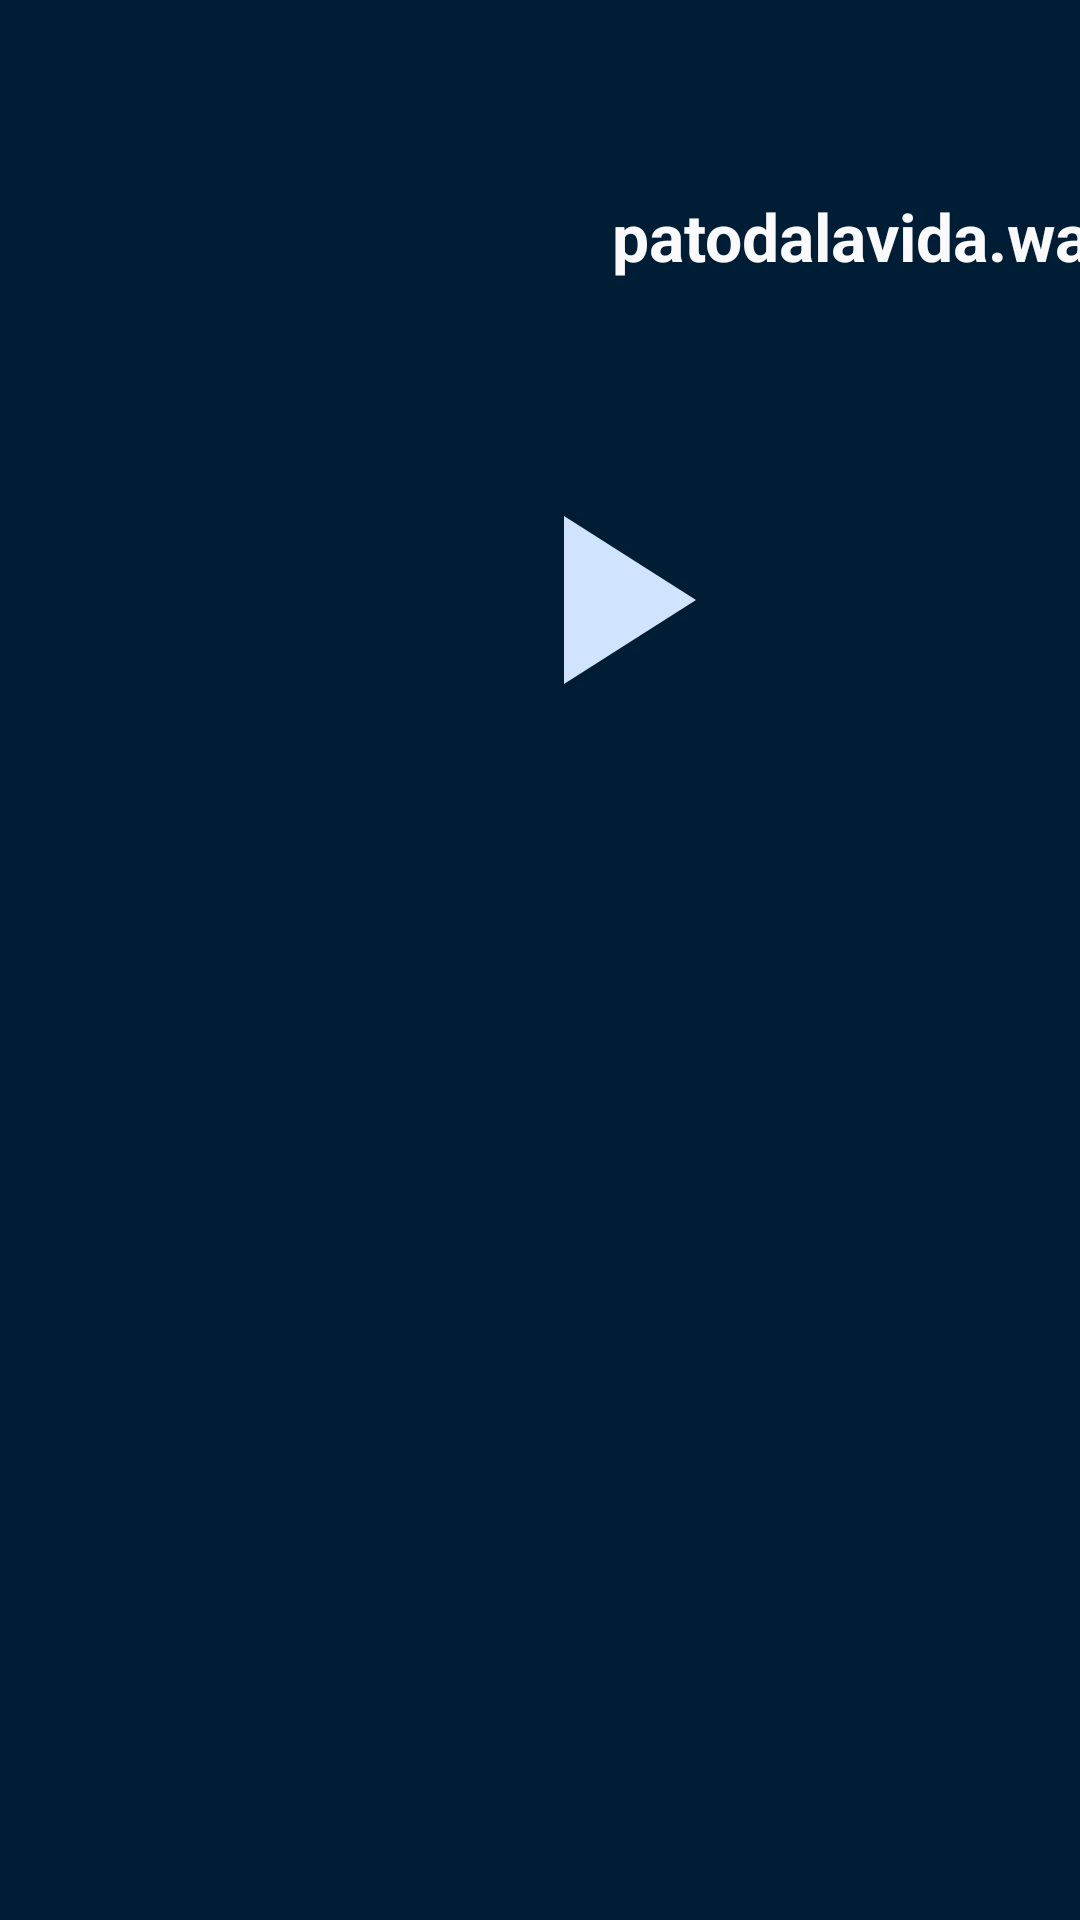

Named icons in this screenshot (1080x1920) and their bounding boxes, Rect(x1, y1, x2, y2):
play arrow: Rect(564, 516, 696, 684)
